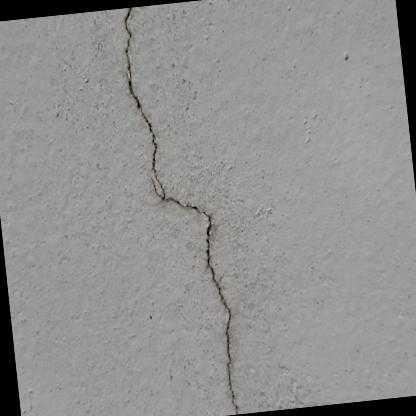crack: (125, 7, 239, 414)
